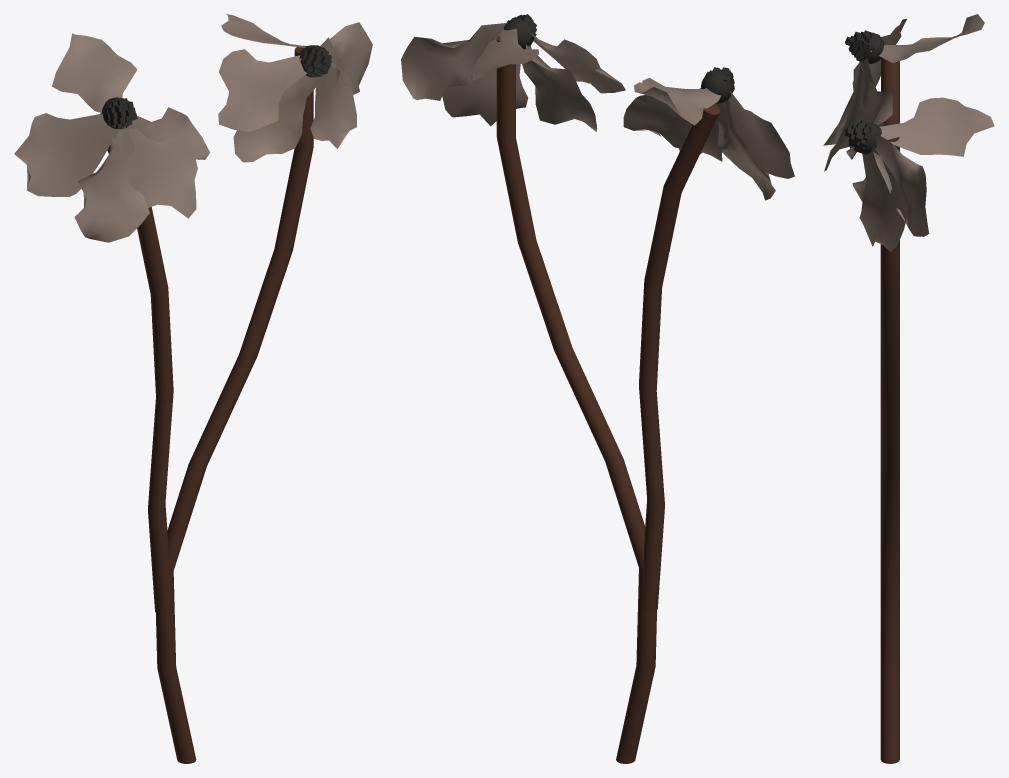
The model's file is k_nirinsou.fbx.
3 views of the same model, side by side, from view 1: azimuth 30°, elevation 25°; view 2: azimuth 150°, elevation 25°; view 3: azimuth 270°, elevation 25° (orthographic).
Visible parts, largest first — view 1: pCylinder12, pPlane14 (×2), pPlane13 (×2), pPlane10 (×2), pPlane12 (×2), pPlane11 (×2), pSphere5, pSphere6; view 2: pCylinder12, pPlane10 (×2), pPlane14 (×2), pPlane13 (×2), pPlane12 (×2), pPlane11 (×2), pSphere5, pSphere6; view 3: pCylinder12, pPlane11 (×2), pPlane14 (×2), pPlane10 (×2), pPlane12 (×2), pPlane13, pSphere5, pSphere6.
Part boxes in pixels (x1=…): pCylinder12: x1=100, y1=45, x2=313, y2=763; pPlane14 (×2): x1=14, y1=64, x2=356, y2=196; pPlane13 (×2): x1=52, y1=33, x2=318, y2=162; pPlane10 (×2): x1=74, y1=22, x2=372, y2=242; pPlane12 (×2): x1=124, y1=49, x2=306, y2=159; pPlane11 (×2): x1=117, y1=14, x2=305, y2=218; pSphere5: x1=101, y1=97, x2=137, y2=129; pSphere6: x1=298, y1=45, x2=331, y2=77; pCylinder12: x1=496, y1=35, x2=719, y2=763; pPlane10 (×2): x1=401, y1=22, x2=775, y2=200; pPlane14 (×2): x1=442, y1=40, x2=794, y2=178; pPlane13 (×2): x1=522, y1=45, x2=720, y2=131; pPlane12 (×2): x1=529, y1=32, x2=700, y2=148; pPlane11 (×2): x1=461, y1=28, x2=728, y2=161; pSphere5: x1=701, y1=67, x2=734, y2=103; pSphere6: x1=504, y1=14, x2=536, y2=49; pCylinder12: x1=880, y1=57, x2=899, y2=763; pPlane11 (×2): x1=824, y1=65, x2=994, y2=171; pPlane14 (×2): x1=859, y1=18, x2=907, y2=251; pPlane10 (×2): x1=823, y1=62, x2=929, y2=236; pPlane12 (×2): x1=846, y1=58, x2=894, y2=159; pPlane13: x1=870, y1=14, x2=984, y2=62; pSphere5: x1=845, y1=30, x2=884, y2=63; pSphere6: x1=845, y1=120, x2=881, y2=154.
Size of the model in its own units: 190 by 349 by 76.28.
